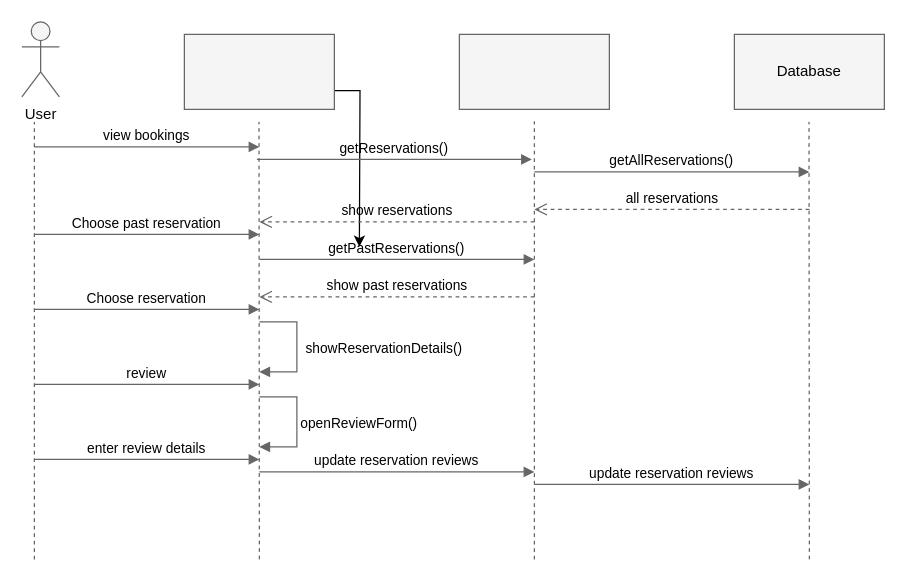
This 906x583 diagram has some shape labels left out. The centre of each missing label's shape, as x and y in pixels:
"GUI" belongs at point (258, 71).
"Reservation Manager" belongs at point (533, 71).
